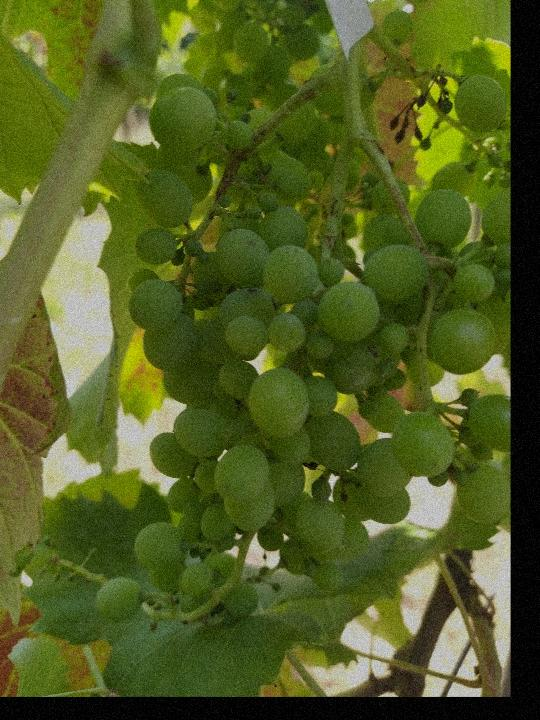grape: (90, 69, 507, 638)
